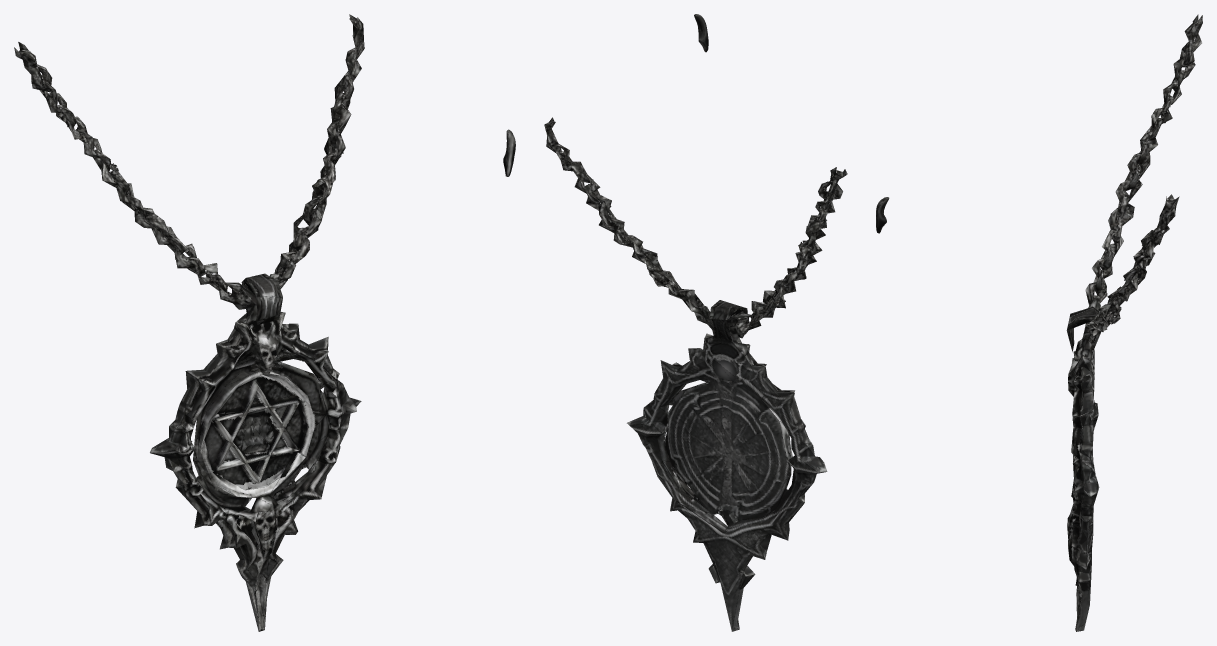
The model's file is medallion_necklace_LOD2.glb.
3 renders of one model, left to right at view 1: azimuth 30°, elevation 25°; view 2: azimuth 150°, elevation 25°; view 3: azimuth 270°, elevation 25°, orthographic. The views are drawn at different scales.
Parts seen in each view (by area): view 1: medallion_necklace_LOD2; view 2: medallion_necklace_LOD2; view 3: medallion_necklace_LOD2.
Boxes of the visible parts, <box> form: medallion_necklace_LOD2: <box>14,14,515,631</box>; medallion_necklace_LOD2: <box>544,14,847,631</box>; medallion_necklace_LOD2: <box>876,14,1202,631</box>.
Bounding box in the file's own units: 0.2694 × 0.4494 × 0.2479.
1 material, 1 textured.
